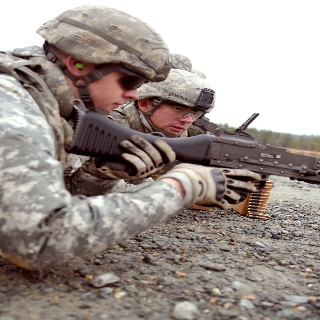rifle: (66, 98, 320, 183)
